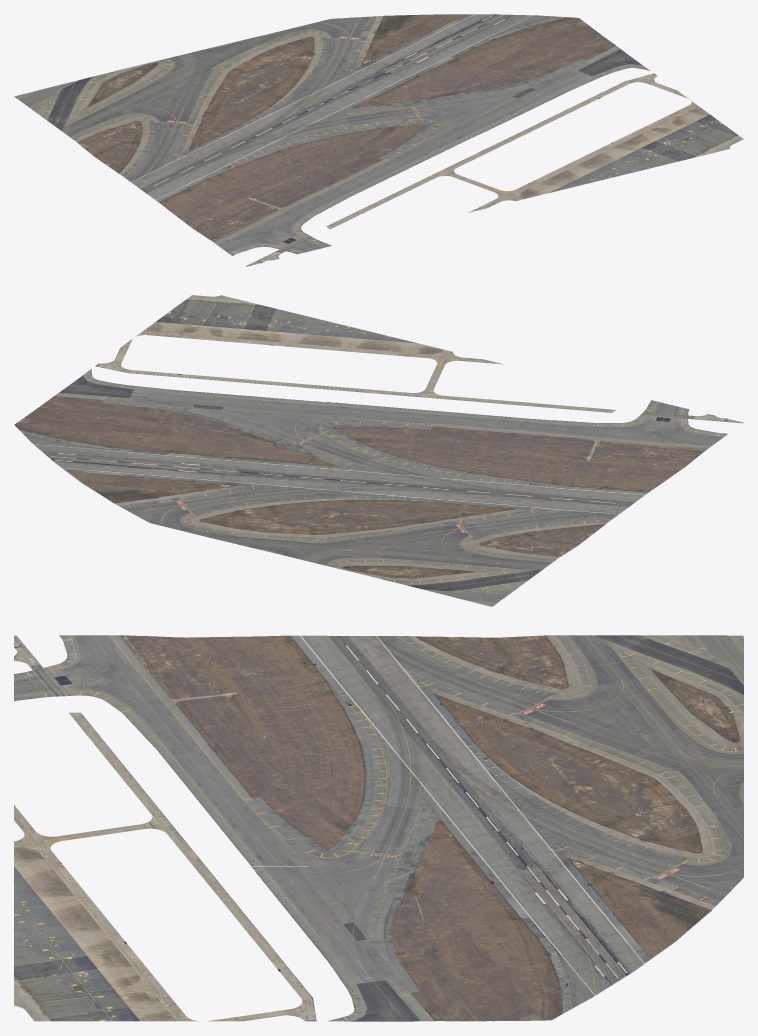
The model's file is roads_context_06.glb.
The picture shows the model from 3 angles, top to bottom: view 1: azimuth 30°, elevation 25°; view 2: azimuth 150°, elevation 25°; view 3: azimuth 270°, elevation 25°; orthographic projection. The views are drawn at different scales.
Visible parts, largest first — view 1: I097501800001062A0.001; view 2: I097501800001062A0.001; view 3: I097501800001062A0.001.
Boxes of the visible parts, x1,y1,x2,y2 form: I097501800001062A0.001: (14, 14, 743, 266); I097501800001062A0.001: (14, 295, 743, 606); I097501800001062A0.001: (14, 635, 743, 1021).
Size of the model in its own units: 751 by 3.15 by 601.
17 materials, 17 textured.
